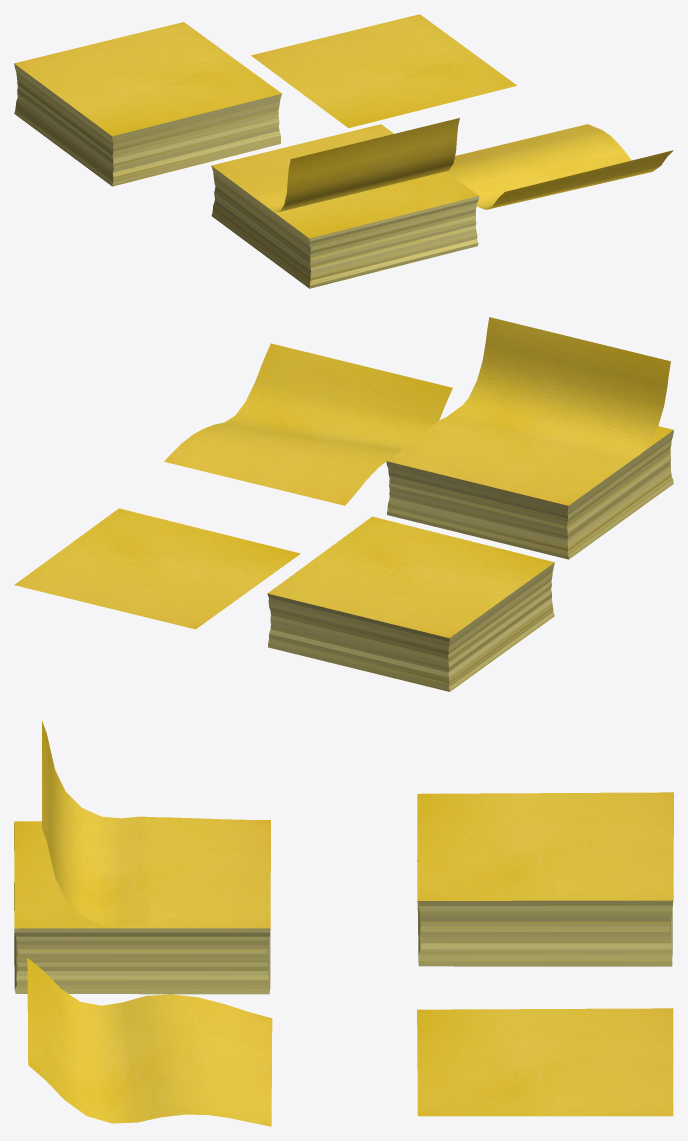
Rendered from sticky_notes.glb.
The picture shows the model from 3 angles, top to bottom: view 1: azimuth 30°, elevation 25°; view 2: azimuth 150°, elevation 25°; view 3: azimuth 270°, elevation 25°; orthographic projection. The views are drawn at different scales.
Visible parts, largest first — view 1: SINGLE, STACK2, single, FRONT_CURVED, single curved; view 2: SINGLE, FRONT_CURVED, single curved, single, STACK2; view 3: SINGLE, single curved, single, FRONT_CURVED, STACK2.
Part boxes in pixels (<box>): SINGLE: <box>14,22,281,186</box>; STACK2: <box>211,124,479,288</box>; single: <box>251,14,516,128</box>; FRONT_CURVED: <box>212,118,459,212</box>; single curved: <box>446,124,673,209</box>; SINGLE: <box>267,516,554,691</box>; FRONT_CURVED: <box>392,317,670,505</box>; single curved: <box>164,343,452,505</box>; single: <box>14,508,300,629</box>; STACK2: <box>386,406,673,559</box>; SINGLE: <box>417,792,673,966</box>; single curved: <box>27,958,272,1126</box>; single: <box>417,1008,673,1116</box>; FRONT_CURVED: <box>42,721,270,928</box>; STACK2: <box>14,820,270,994</box>.
Size of the model in its own units: 4.96 by 1.4 by 5.16.
Materials: 3 (3 with a texture image).
